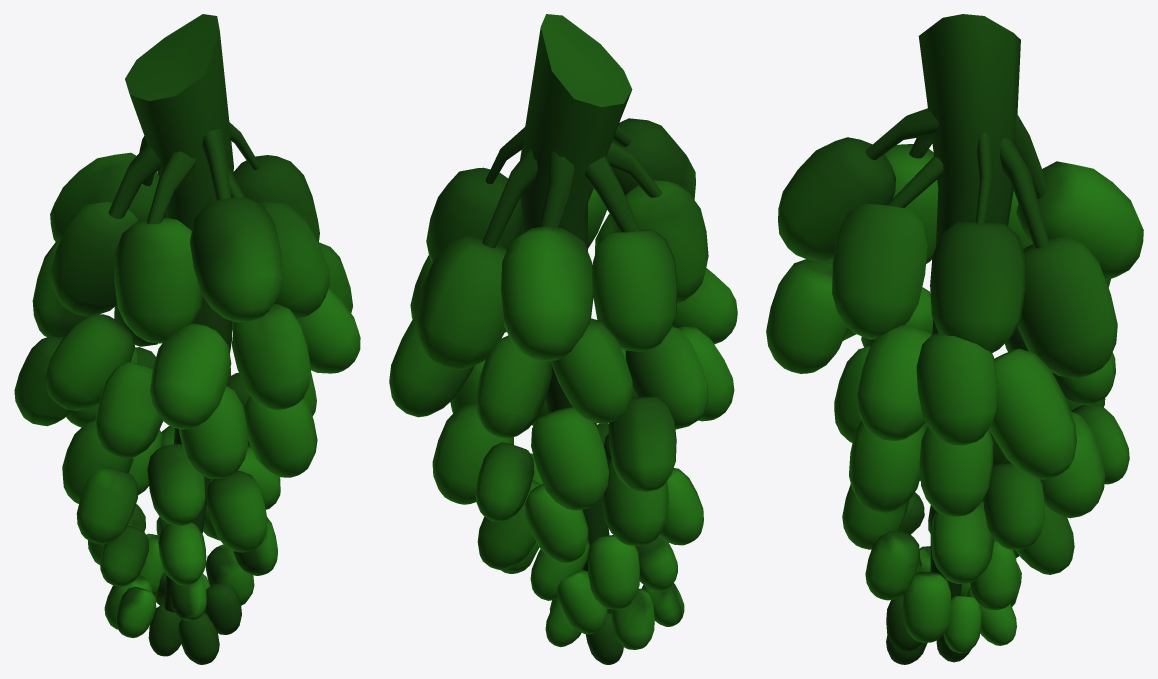
File: Grapes.fbx
The picture shows the model from 3 angles, left to right: view 1: azimuth 30°, elevation 25°; view 2: azimuth 150°, elevation 25°; view 3: azimuth 270°, elevation 25°; orthographic projection. The views are drawn at different scales.
Visible parts, largest first — view 1: Grapes; view 2: Grapes; view 3: Grapes.
Part boxes in pixels (box(x1,y1,x2,y2)): Grapes: box(14, 14, 360, 664); Grapes: box(389, 14, 737, 664); Grapes: box(766, 14, 1143, 664).
Bounding box in the file's own units: 82.17 × 168 × 85.2.
